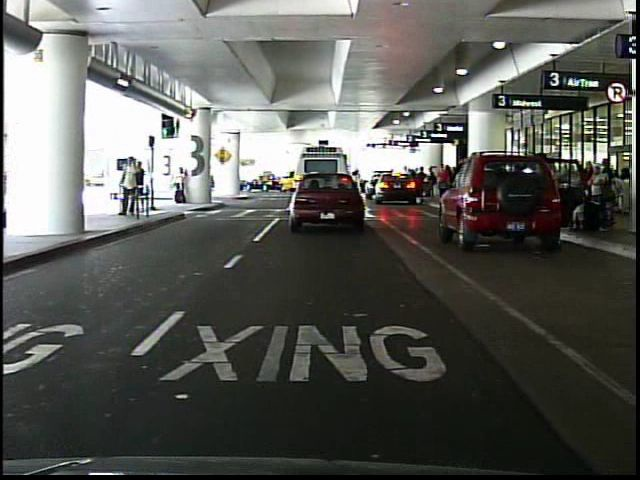person: (531, 151, 563, 235), (117, 153, 141, 222), (135, 160, 151, 219), (171, 168, 191, 209), (436, 164, 453, 202)
